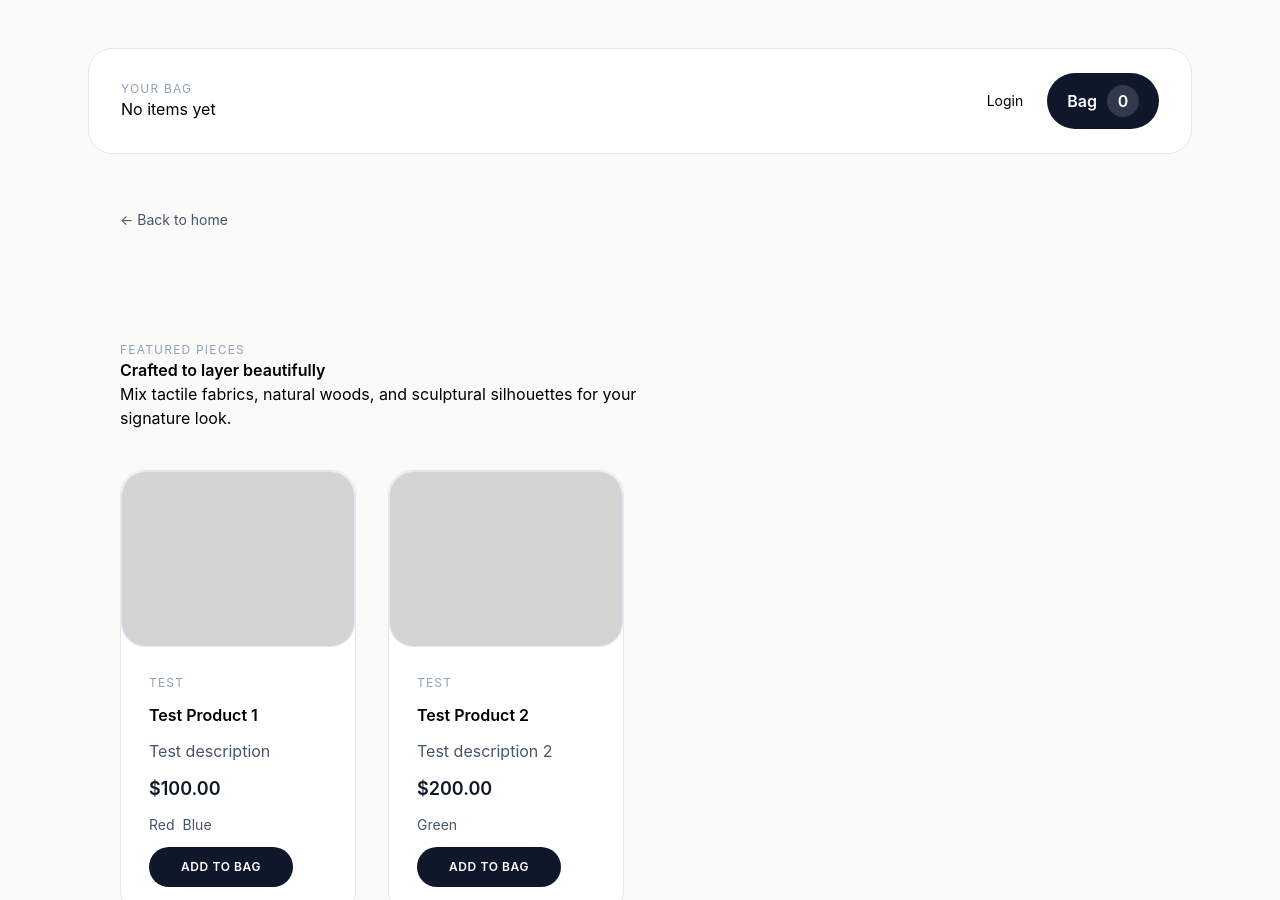
Test: App › adds items to the basket and adjusts quantities
What coordinates should you click on to do the following:
click the button "Add to bag" below "Blue"
I would click on:
 (221, 866)
Its box is [149,846,293,886].
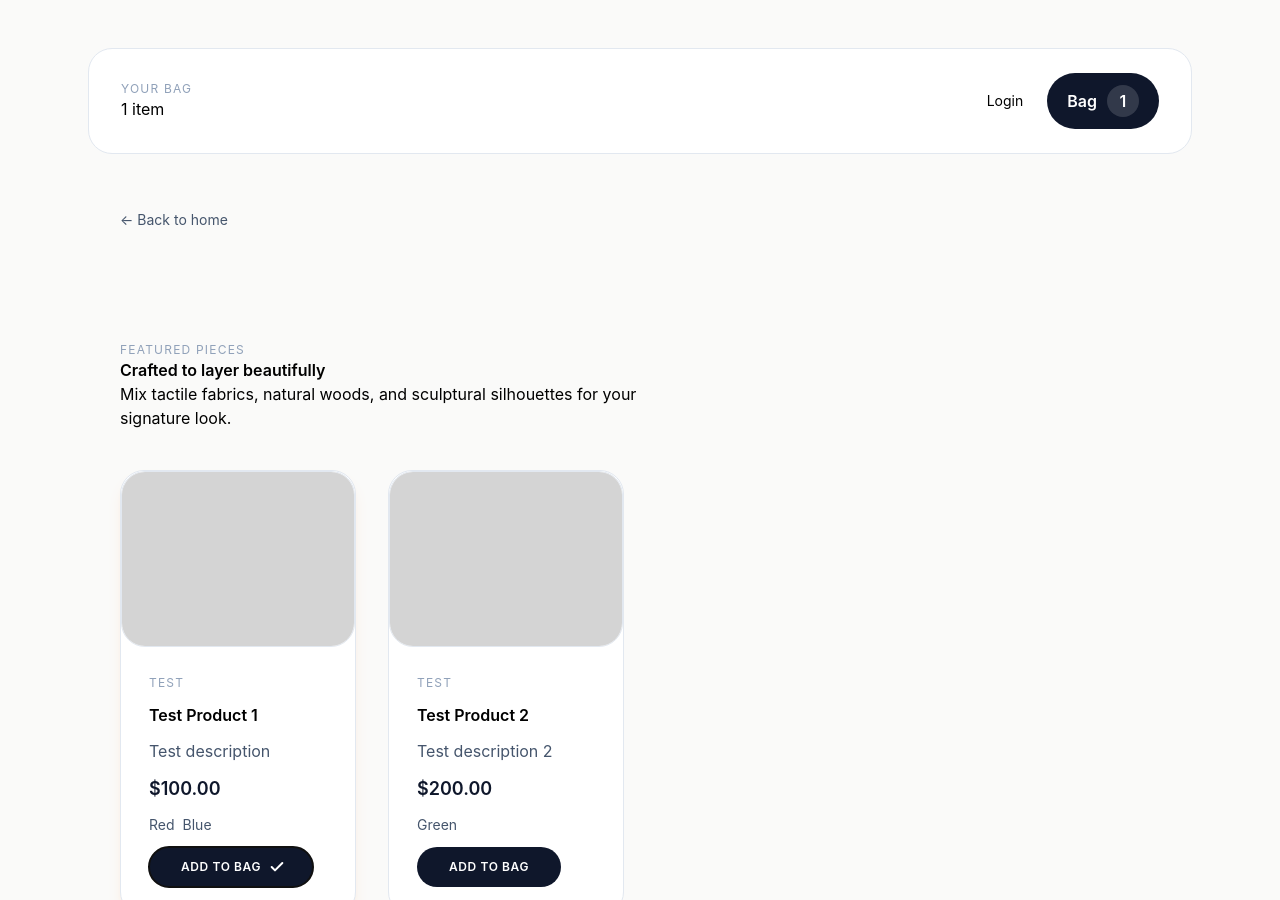
Result: the text with test id "cart-count" reads "1" at [1120,91,1126,111]
What coordinates should you click on to do the following:
click the button with test id "cart-toggle"
I would click on:
 (1103, 101)
Its box is [1047,73,1159,129].
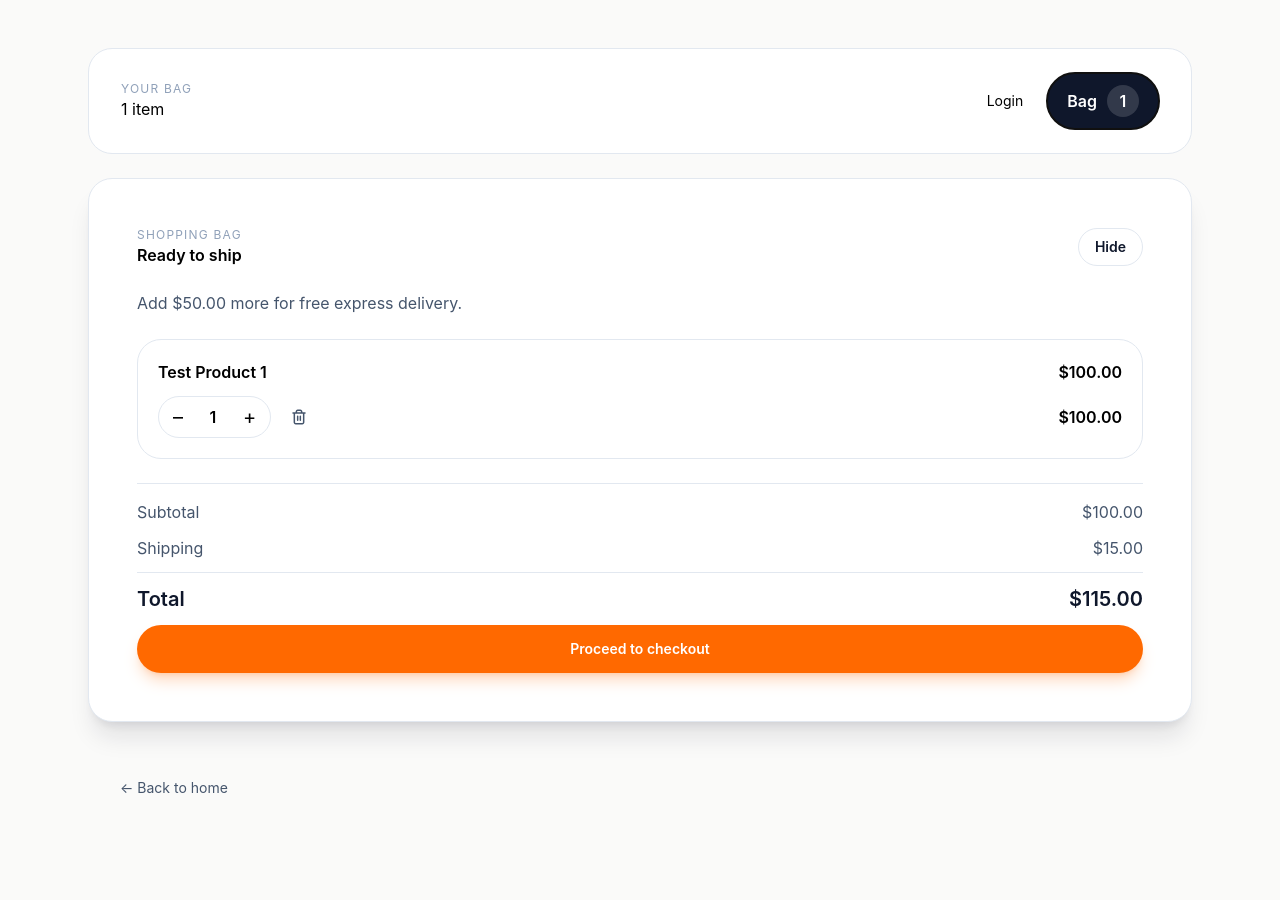
Result: the list item is shown at [137,339,1143,459]
Result: the text with test id "cart-qty-" is shown at [210,407,216,427]
What coordinates should you click on to do the following:
click the button named "increase quantity"
I would click on:
 (250, 417)
Its box is [229,397,270,437].
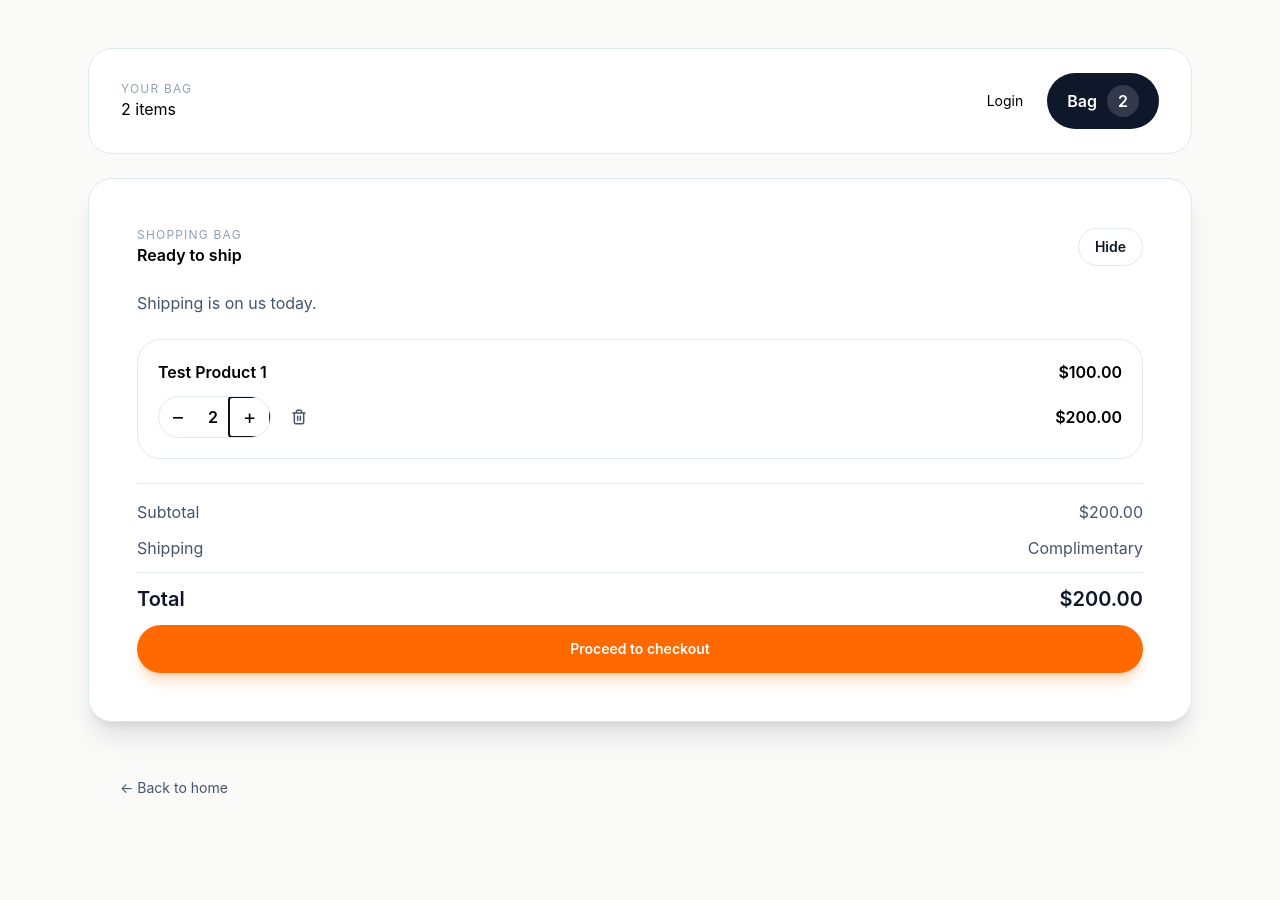
Result: the text with test id "cart-qty-" reads "2" at [208,407,218,427]
What coordinates should you click on to do the following:
click the button named "decrease quantity"
I would click on:
 (178, 417)
Its box is [159,397,197,437].
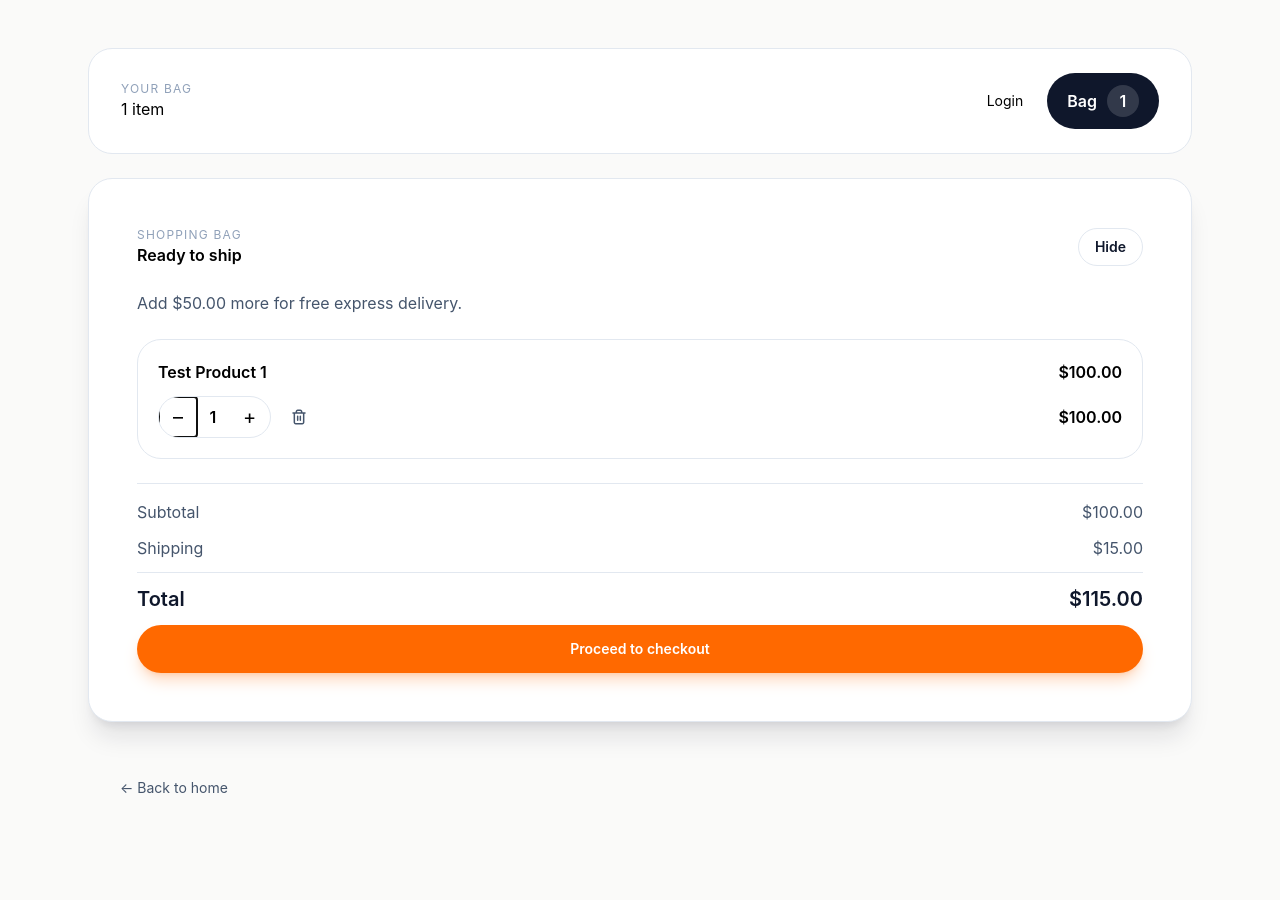
Result: the text with test id "cart-qty-" reads "1" at [210,407,216,427]
